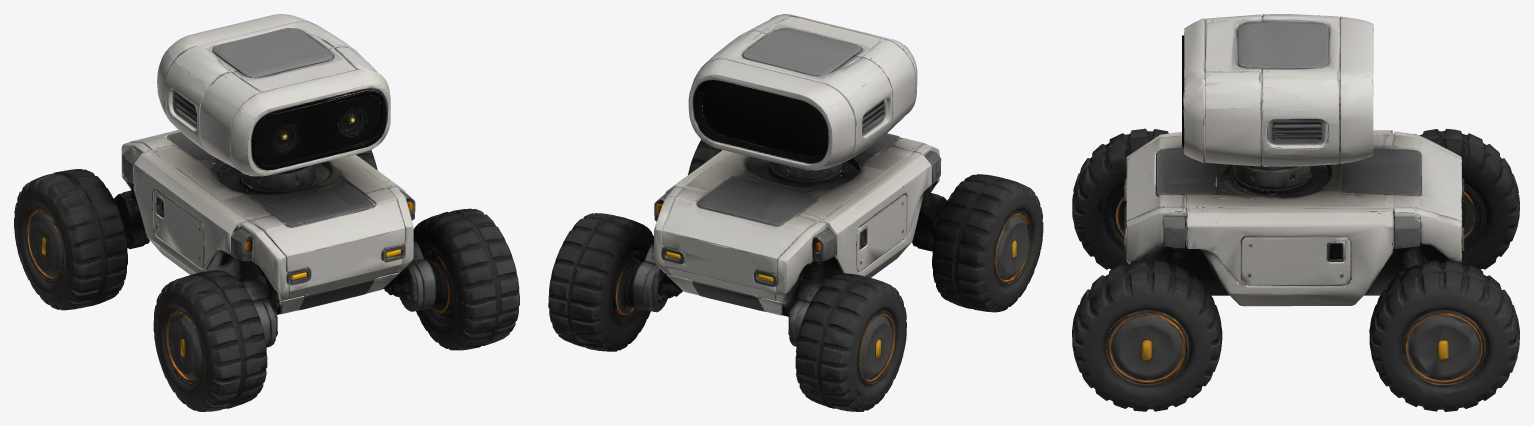
The model's file is guide-robot.glb.
3 renders of one model, left to right at view 1: azimuth 30°, elevation 25°; view 2: azimuth 150°, elevation 25°; view 3: azimuth 270°, elevation 25°, orthographic. The views are drawn at different scales.
Parts seen in each view (by area): view 1: node_0; view 2: node_0; view 3: node_0.
Boxes of the visible parts, x1,y1,x2,y2 form: node_0: (14,14,519,411); node_0: (548,14,1043,411); node_0: (1072,14,1519,411).
Size of the model in its own units: 0.7478 by 0.6343 by 0.8777.
1 material, 1 textured.
